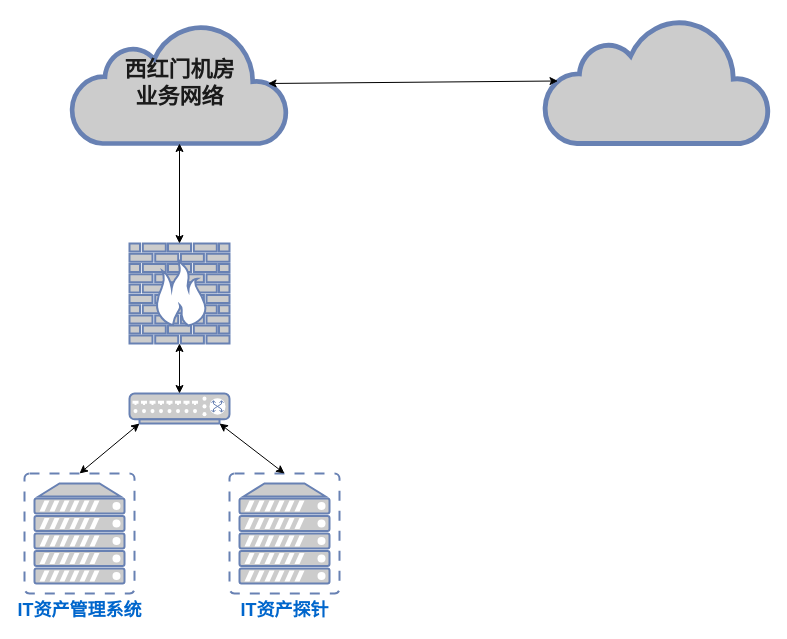
Image size: 787x639. Some labels were removed from this diagram. Here are the shapes that lost their labels. From the top down, the box of each, then its label:
(543, 17, 770, 144): 硅谷机房 业务网络
(128, 242, 230, 344): 管理区防火墙
